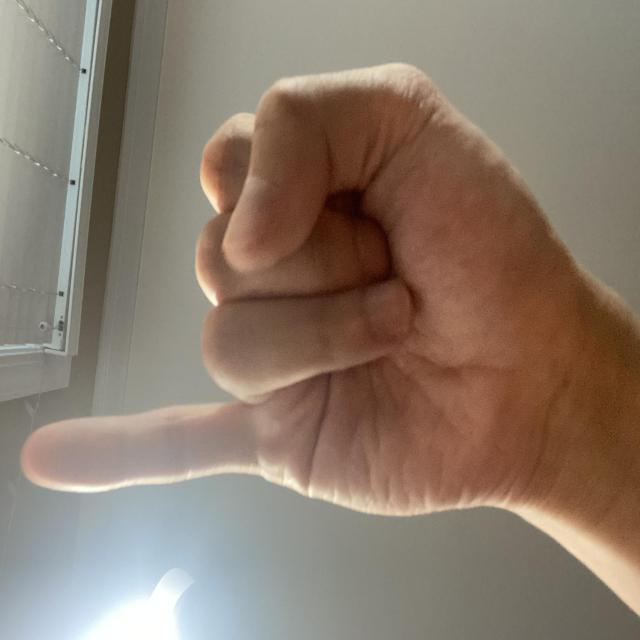I: (76, 19, 446, 640)
